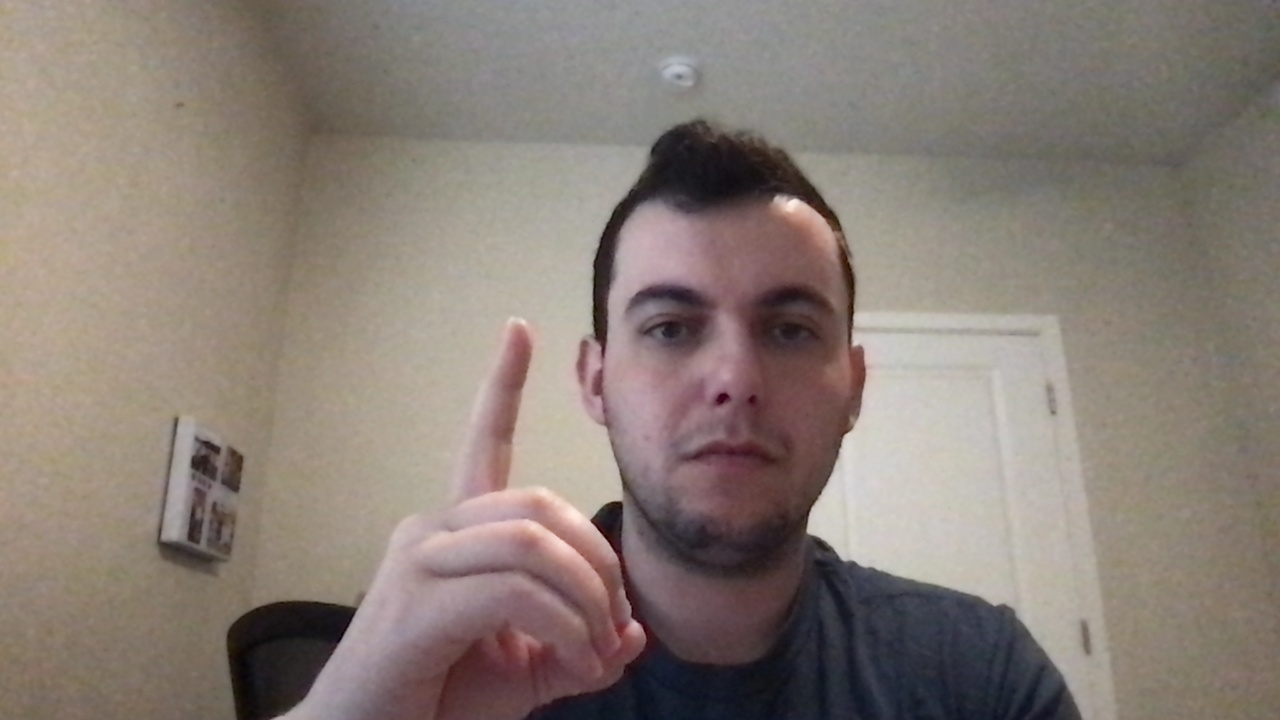d: (344, 308, 656, 717)
